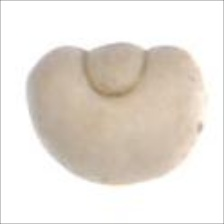L5: (76, 42, 153, 99)
L6: (24, 40, 212, 186)
